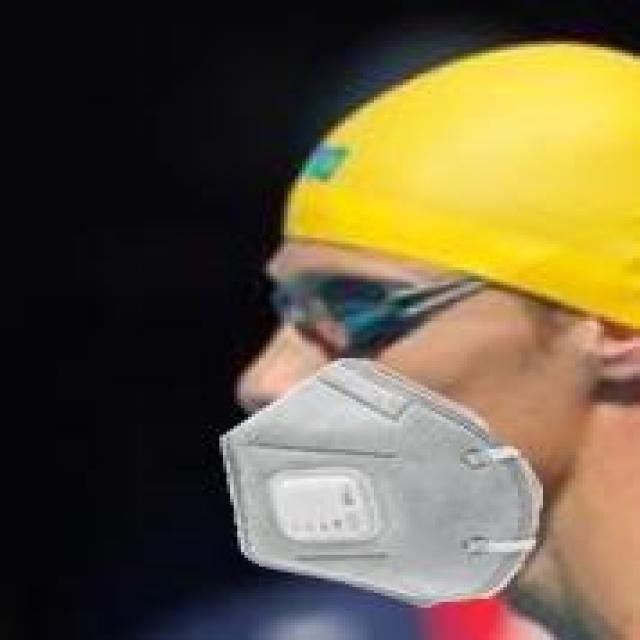mask: (183, 62, 640, 622)
